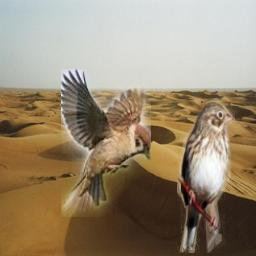Sparrow: (61, 69, 151, 217), (177, 98, 235, 253)
